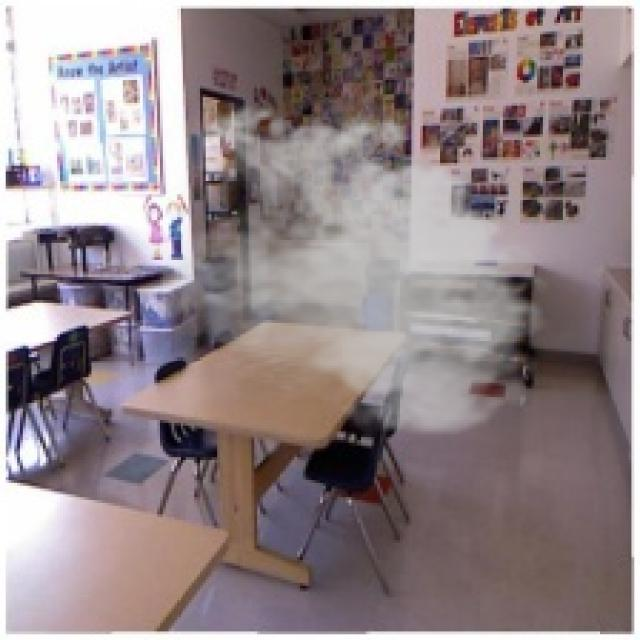smoke: (157, 94, 557, 443)
